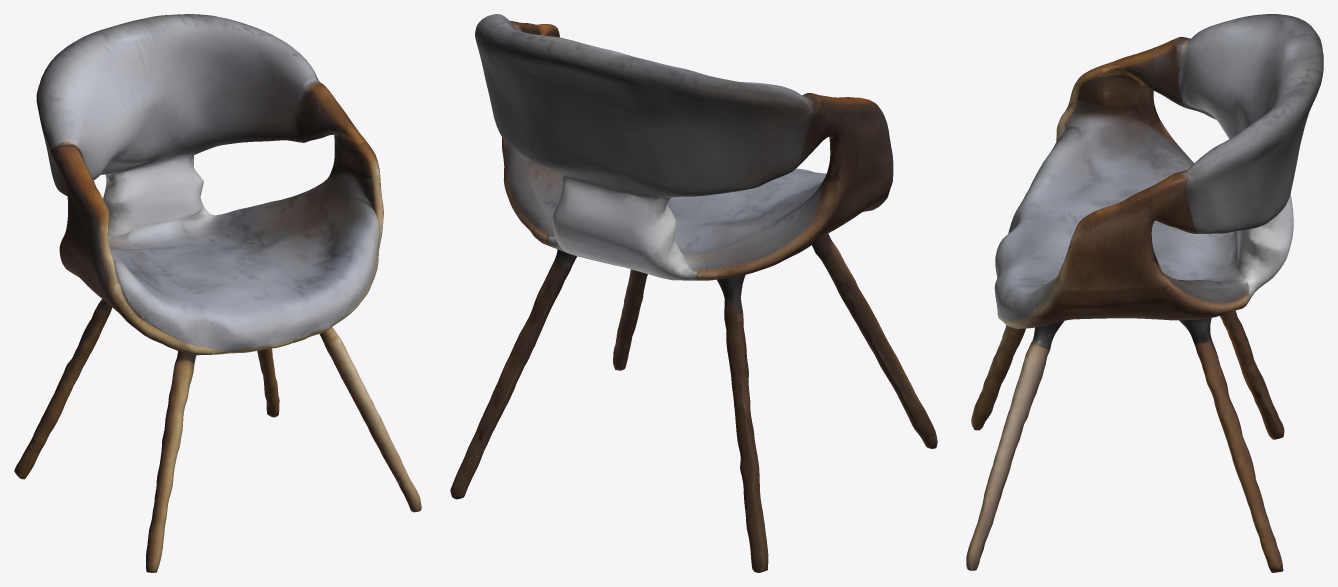
File: Chair_0619085451.fbx
The picture shows the model from 3 angles, left to right: view 1: azimuth 30°, elevation 25°; view 2: azimuth 150°, elevation 25°; view 3: azimuth 270°, elevation 25°; orthographic projection. The views are drawn at different scales.
Parts seen in each view (by area): view 1: Mesh_0; view 2: Mesh_0; view 3: Mesh_0.
Boxes of the visible parts, bbox=[...] form: Mesh_0: bbox=[14, 14, 421, 572]; Mesh_0: bbox=[450, 14, 937, 572]; Mesh_0: bbox=[966, 14, 1323, 572].
Bounding box in the file's own units: 87.17 × 120 × 85.49.
Materials: 1 (1 with a texture image).
